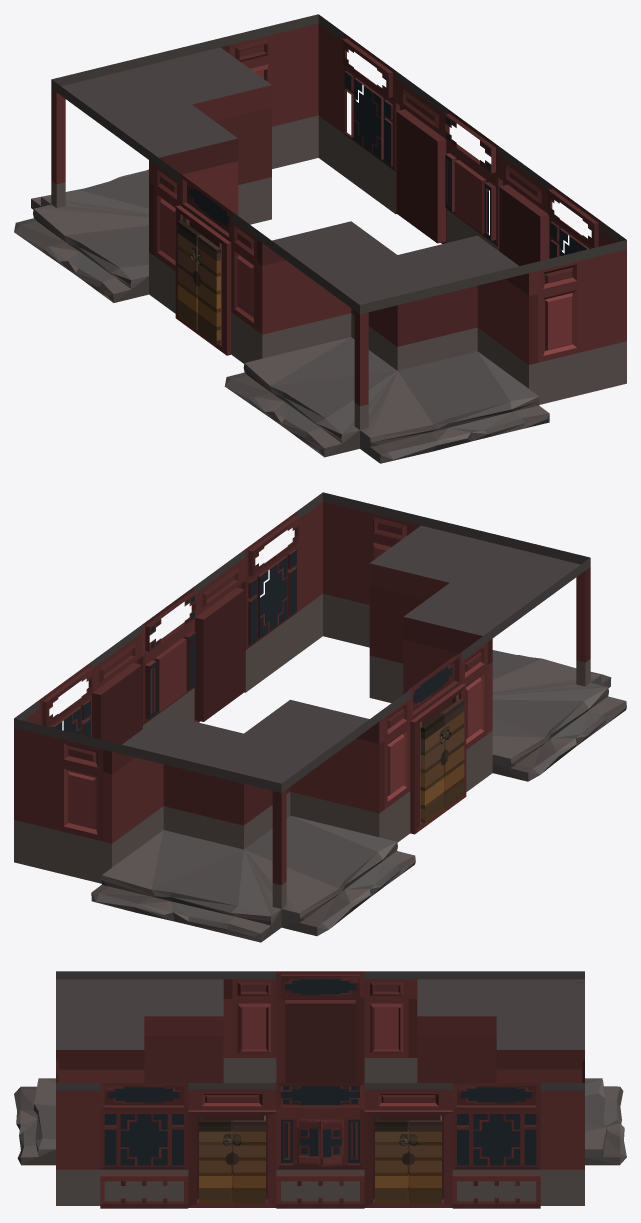
Rendered from BuildingA-Ext_B.fbx.
3 views of the same model, one above another, from view 1: azimuth 30°, elevation 25°; view 2: azimuth 150°, elevation 25°; view 3: azimuth 270°, elevation 25° (orthographic). The views are drawn at different scales.
Parts seen in each view (by area): view 1: BuildingA-Ext_B; view 2: BuildingA-Ext_B; view 3: BuildingA-Ext_B.
Boxes of the visible parts, x1,y1,x2,y2 form: BuildingA-Ext_B: [14, 14, 626, 463]; BuildingA-Ext_B: [14, 492, 626, 942]; BuildingA-Ext_B: [14, 971, 626, 1208].
Size of the model in its own units: 899 by 386 by 1739.
